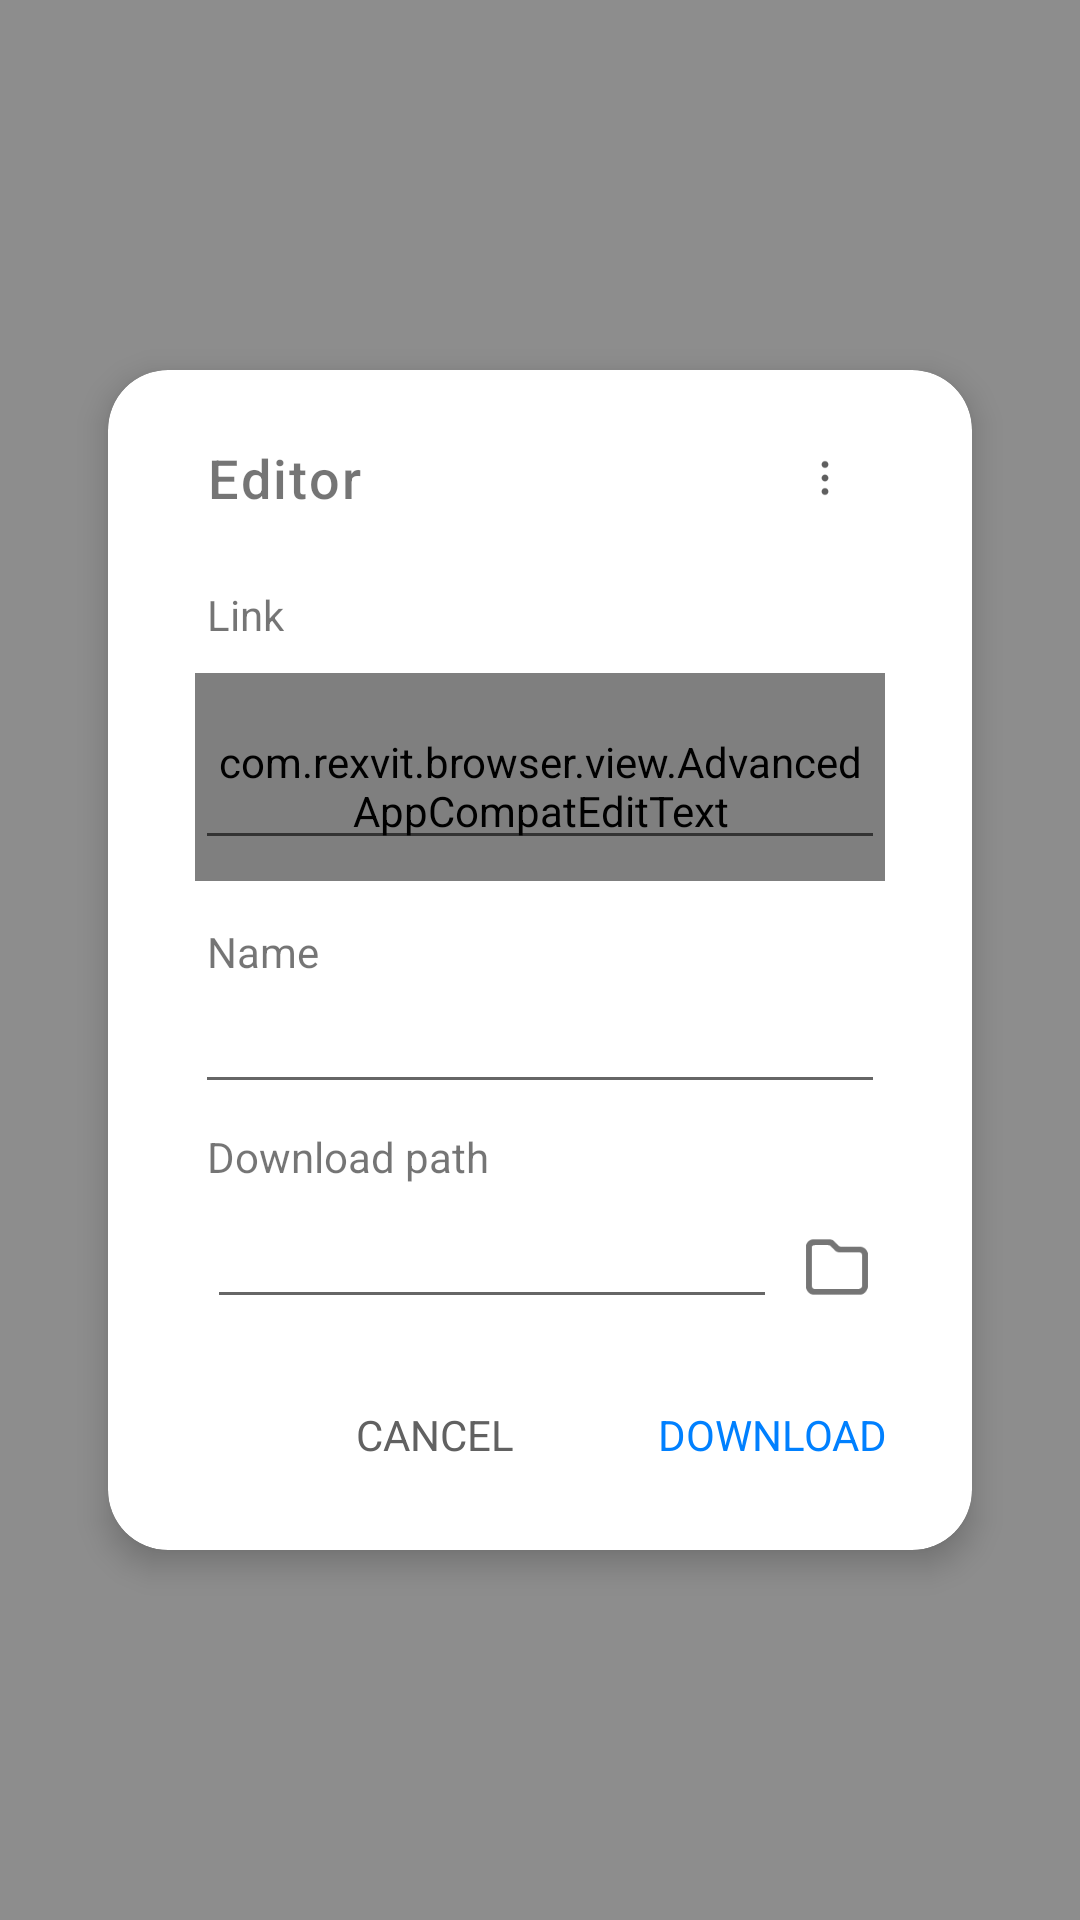

Icon bounding boxes for this 1080 x 1920 phone screenshot, format (x1, y1, x2, y2):
more: (821, 461, 829, 495)
